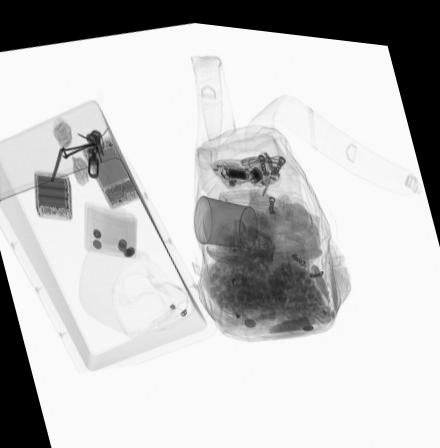Powerbank: (31, 171, 72, 220)
